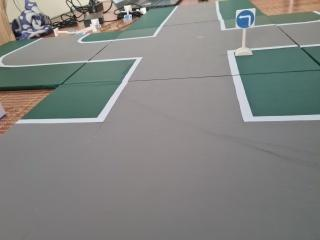left: (232, 5, 261, 32)
